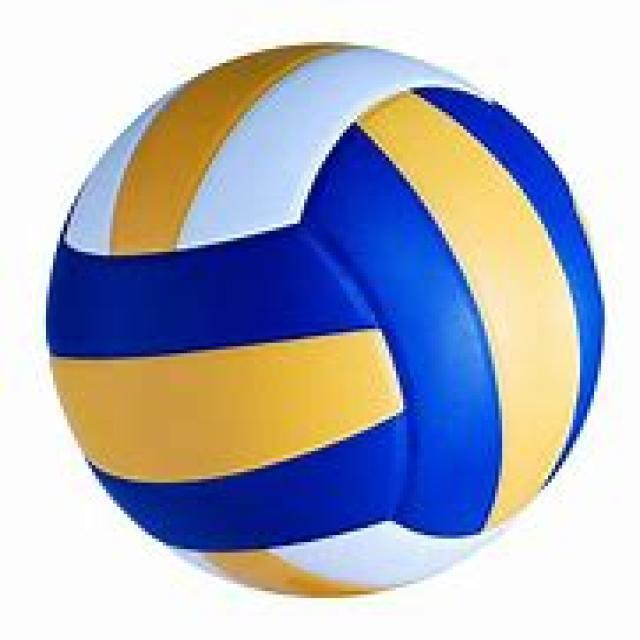volleyball: (44, 46, 604, 598)
